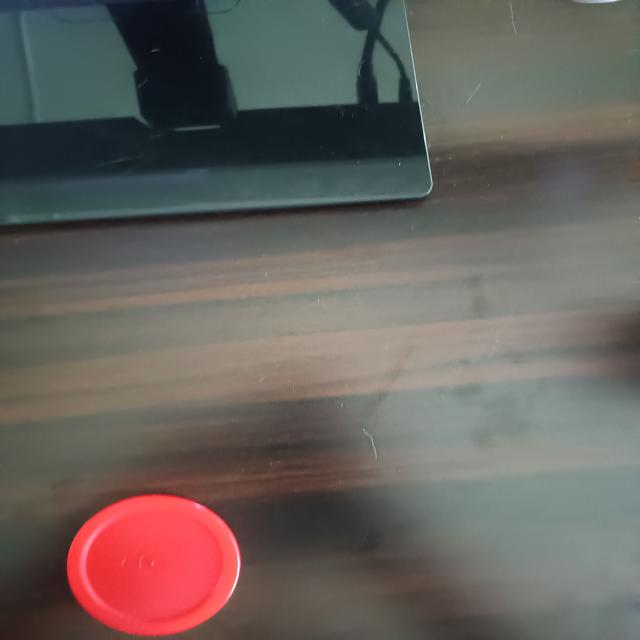chip: (62, 490, 247, 637)
